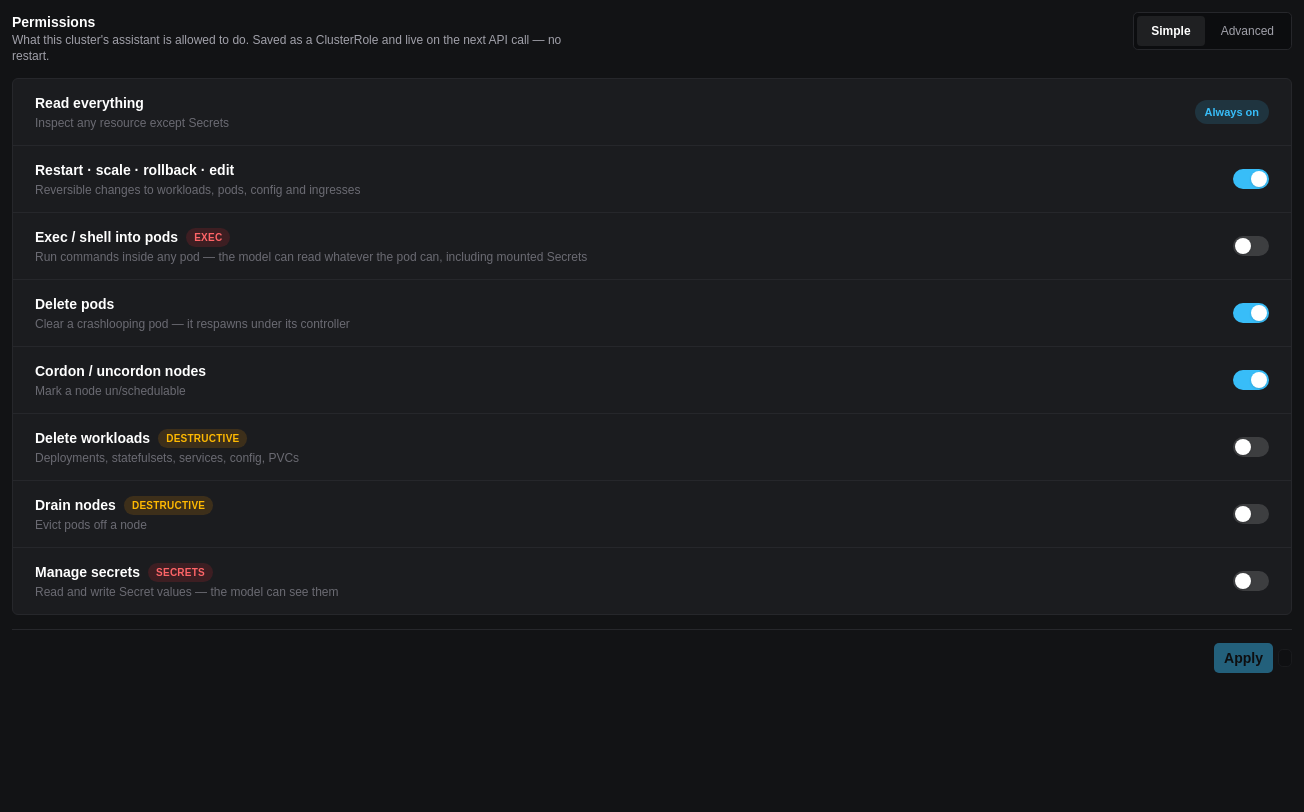
Test: PermissionsTab › toggling a capability shows the pending count and enables Apply
expect the text "Read everything" is shown: met, box [35, 93, 144, 113]
Click the switch named "delete workloads" at (1251, 447), box [1233, 437, 1269, 457]
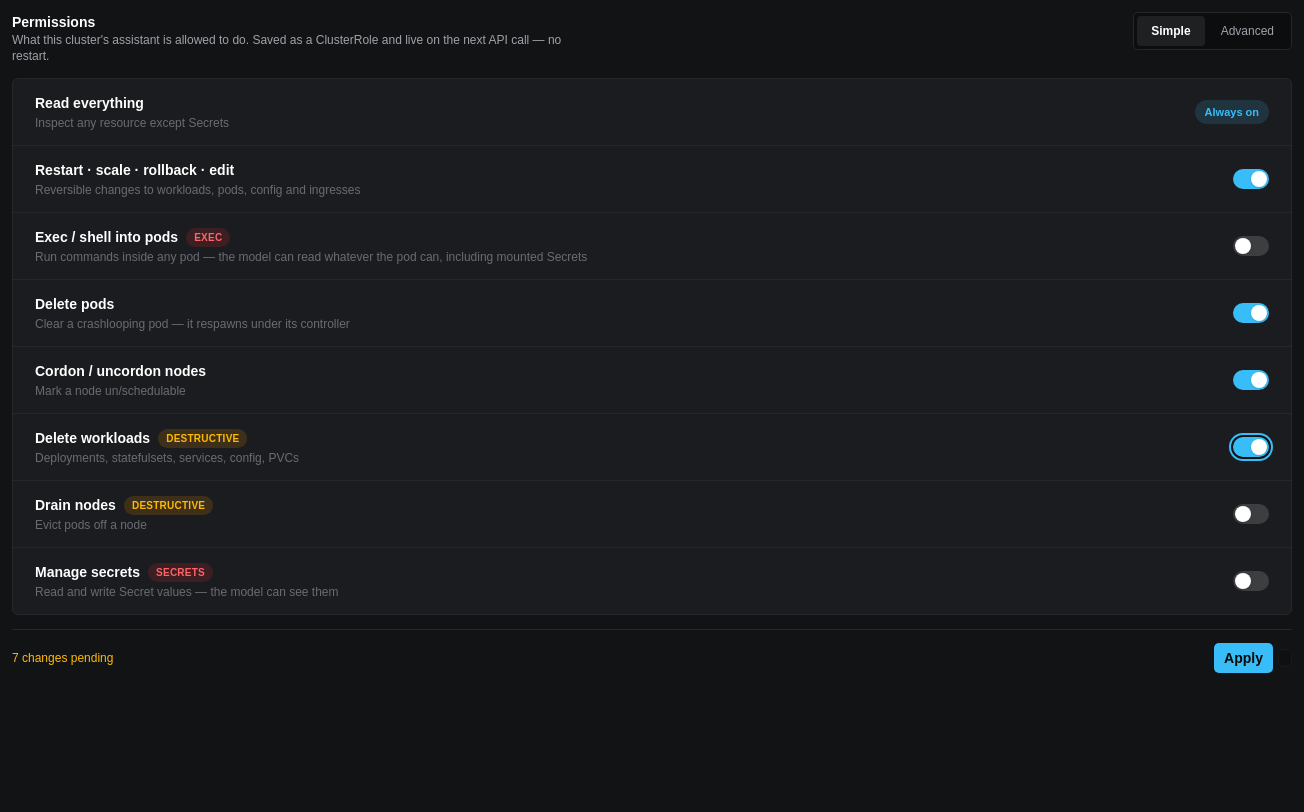
expect the text "7 changes pending" is shown: met, box [12, 650, 113, 666]
expect the button "Apply" is enabled: met, box [1213, 642, 1274, 674]
